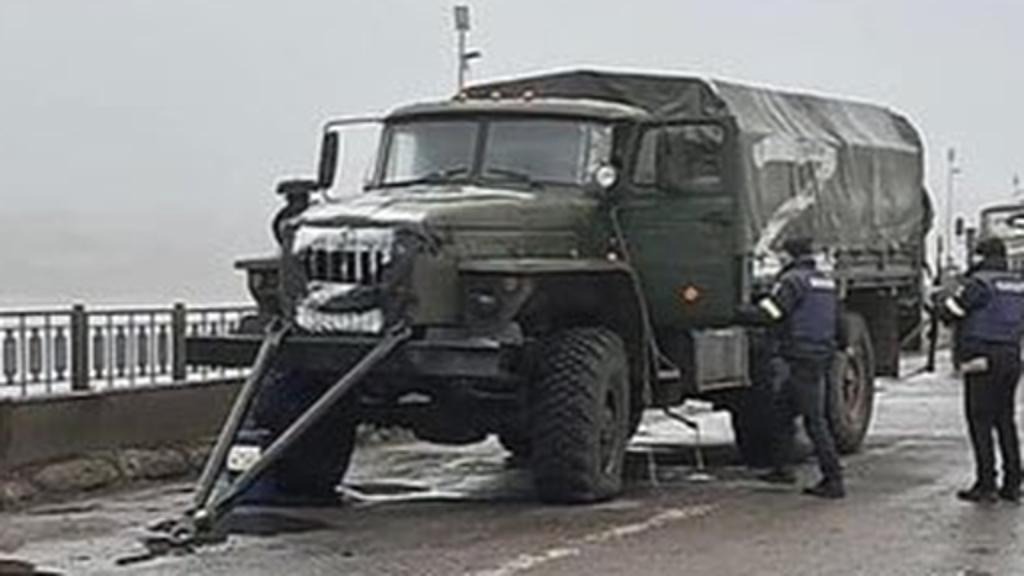TRUCK: (162, 40, 930, 516)
